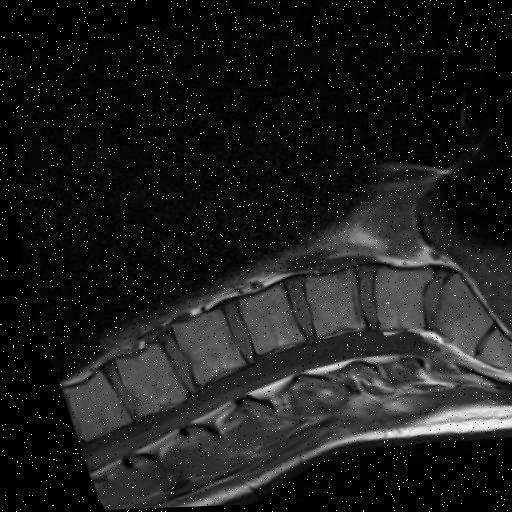L1: (109, 344, 179, 416)
L2: (166, 309, 237, 384)
L3: (234, 288, 296, 354)
L4: (302, 271, 360, 338)
L5: (374, 271, 427, 332)
S1: (425, 276, 488, 357)
